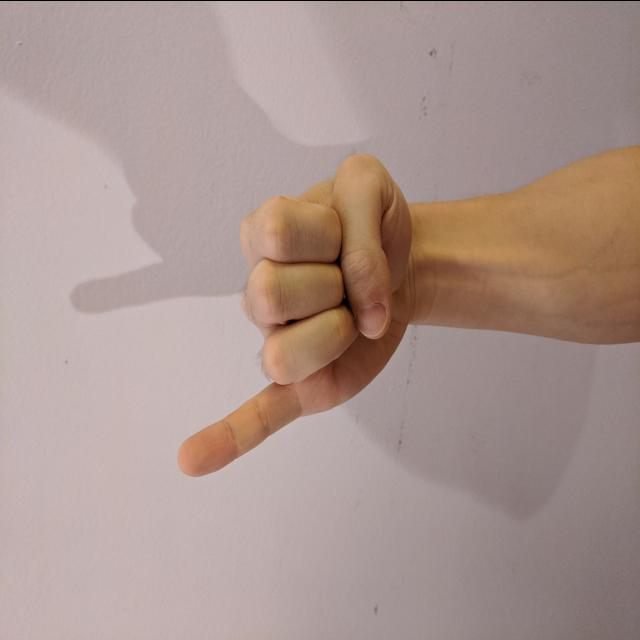I: (173, 143, 416, 483)
